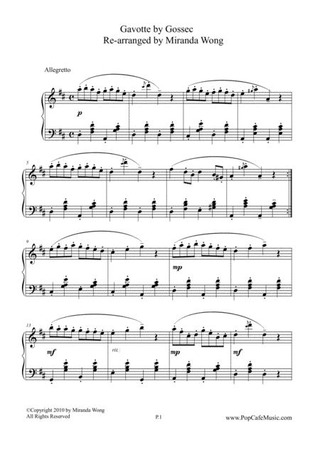Partitura: (15, 20, 299, 431)
